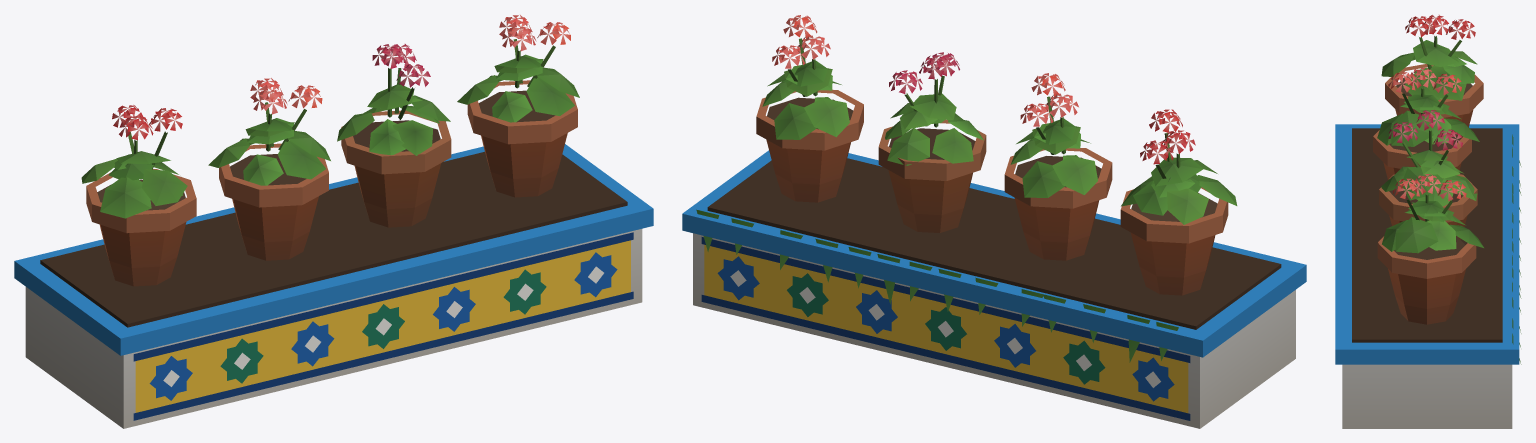
The model's file is planter_sbs.glb.
The picture shows the model from 3 angles, left to right: view 1: azimuth 30°, elevation 25°; view 2: azimuth 150°, elevation 25°; view 3: azimuth 270°, elevation 25°; orthographic projection. The views are drawn at different scales.
Parts seen in each view (by area): view 1: planter_sbs; view 2: planter_sbs; view 3: planter_sbs.
Part boxes in pixels (x1,y1,x2,y2): planter_sbs: [14, 15, 653, 428]; planter_sbs: [682, 15, 1306, 428]; planter_sbs: [1335, 15, 1521, 428].
Size of the model in its own units: 2.26 by 1.09 by 0.79.
